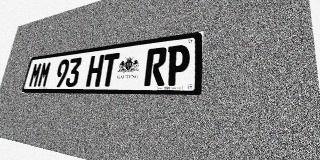3: (65, 57, 82, 87)
9: (54, 59, 70, 87)
H: (85, 54, 105, 87)
M: (37, 61, 52, 87), (28, 62, 43, 87)
P: (165, 44, 190, 86)
R: (144, 47, 167, 86)
T: (100, 53, 120, 87)
